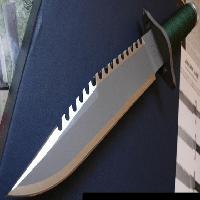knife: (6, 21, 182, 198)
